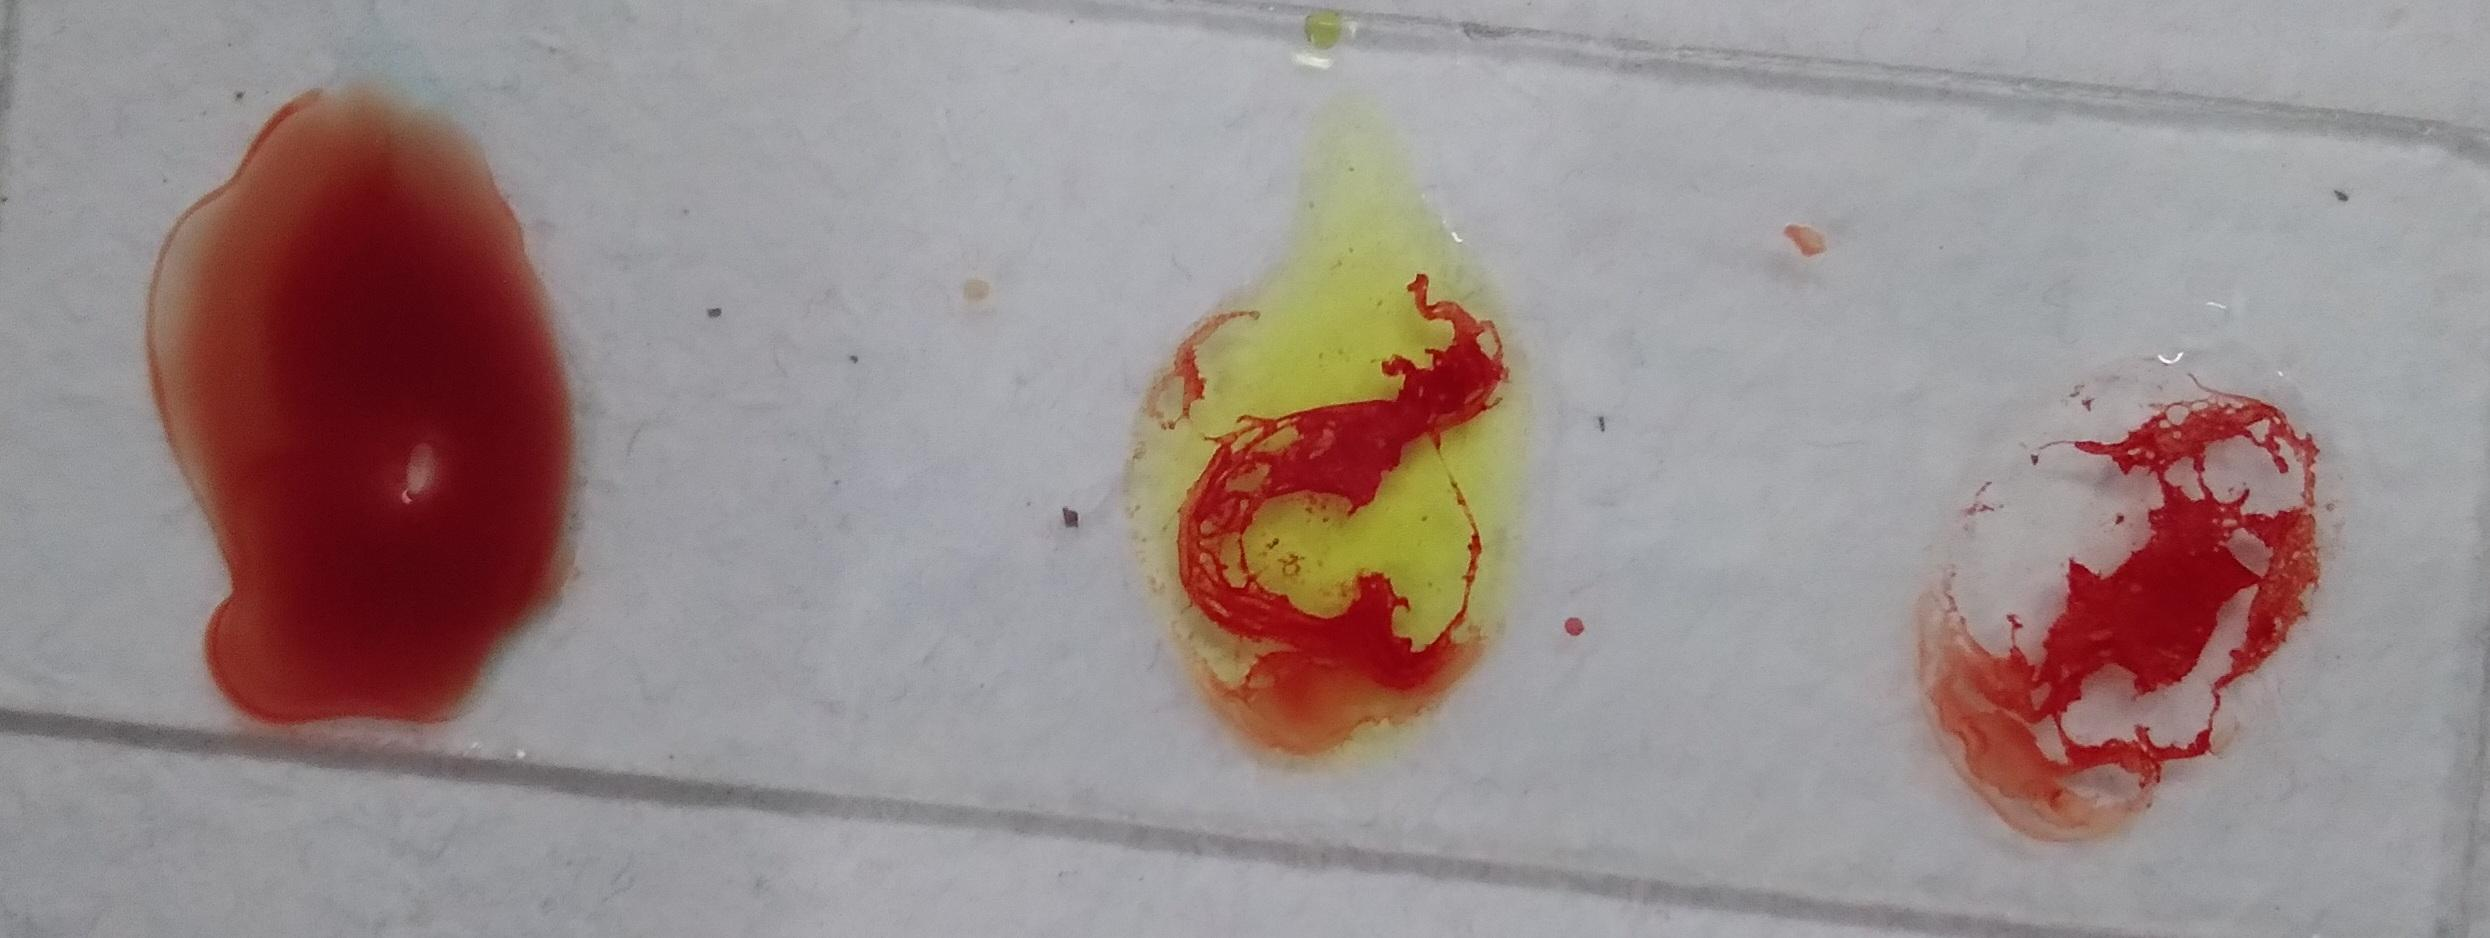B: (980, 165, 1337, 744)
D: (156, 87, 575, 579)
